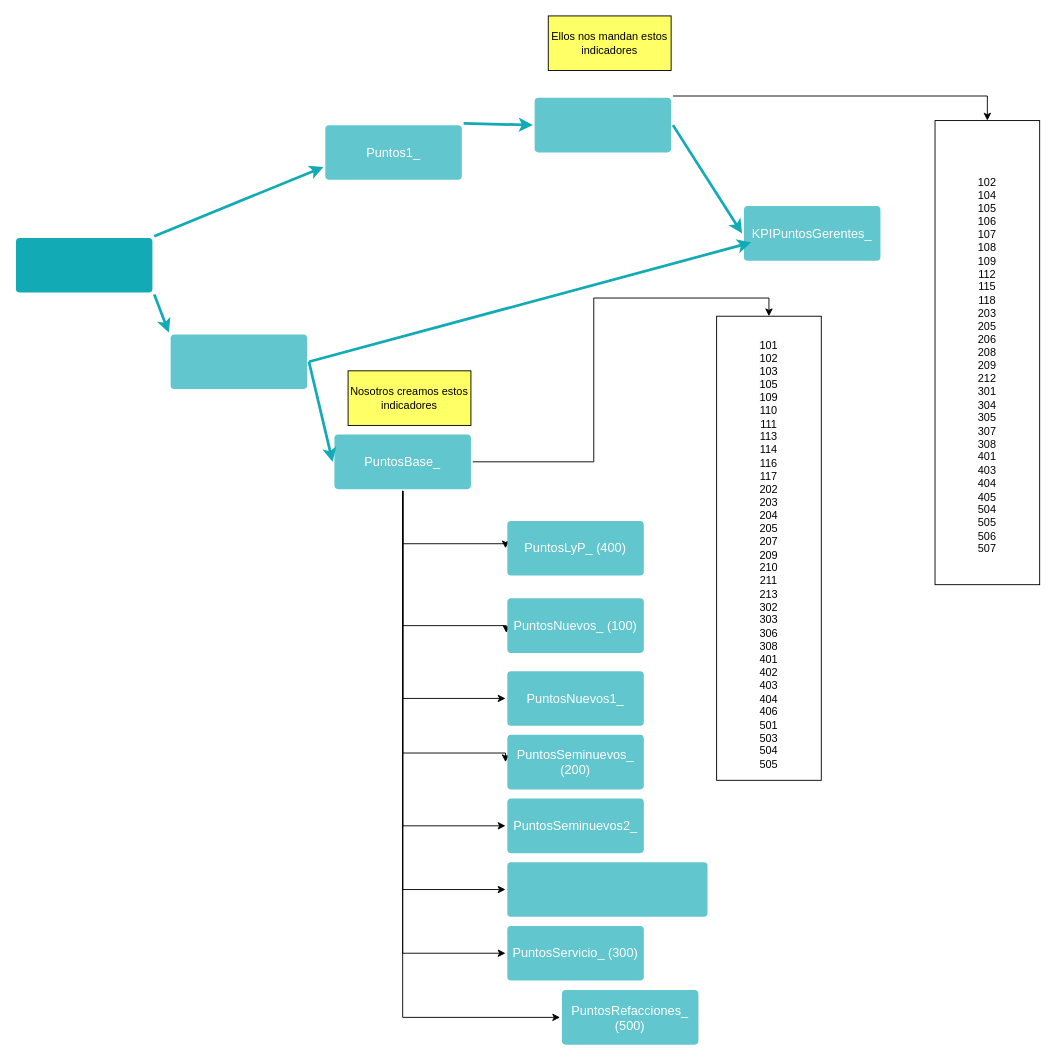
This 1056x1060 diagram has some shape labels left out. The centre of each missing label's shape, as x and y in pixels:
"Puntos2_" goes at (238,361).
"Puntos_" goes at (83,265).
"PuntosKasa_" goes at (602,124).
"PuntosSeminuevosIntellimotor_" goes at (607,889).
